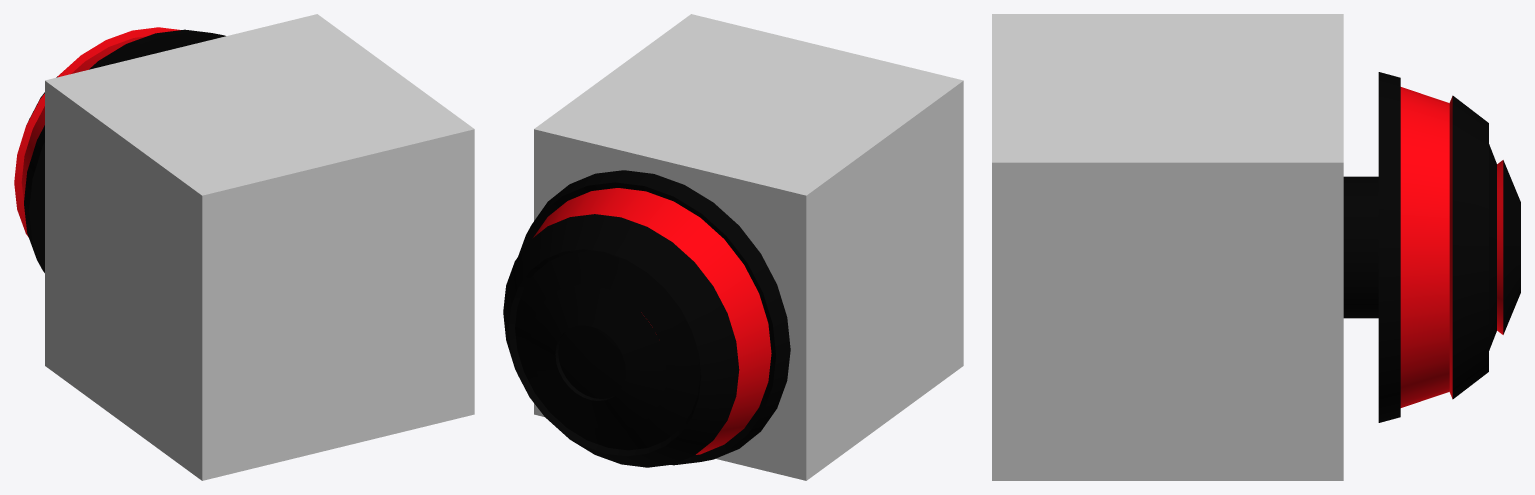
Rendered from RollingLeft.fbx.
3 renders of one model, left to right at view 1: azimuth 30°, elevation 25°; view 2: azimuth 150°, elevation 25°; view 3: azimuth 270°, elevation 25°, orthographic. The views are drawn at different scales.
Parts seen in each view (by area): view 1: Cube, SplitMetalBall; view 2: Cube, SplitMetalBall; view 3: Cube, SplitMetalBall.
Boxes of the visible parts, x1,y1,x2,y2 form: Cube: (45, 14, 474, 480); SplitMetalBall: (14, 27, 225, 272); Cube: (534, 14, 963, 480); SplitMetalBall: (503, 170, 790, 467); Cube: (992, 14, 1343, 480); SplitMetalBall: (1343, 72, 1520, 422).
Size of the model in its own units: 100 by 100 by 150.
